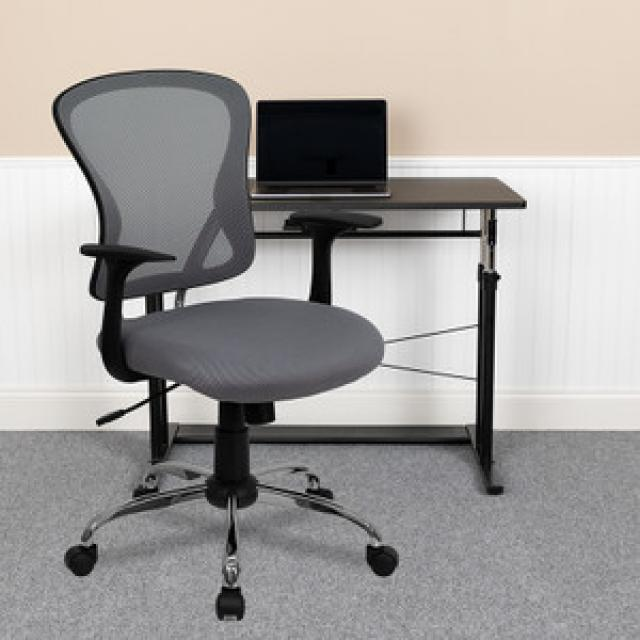chair: (32, 47, 437, 640)
